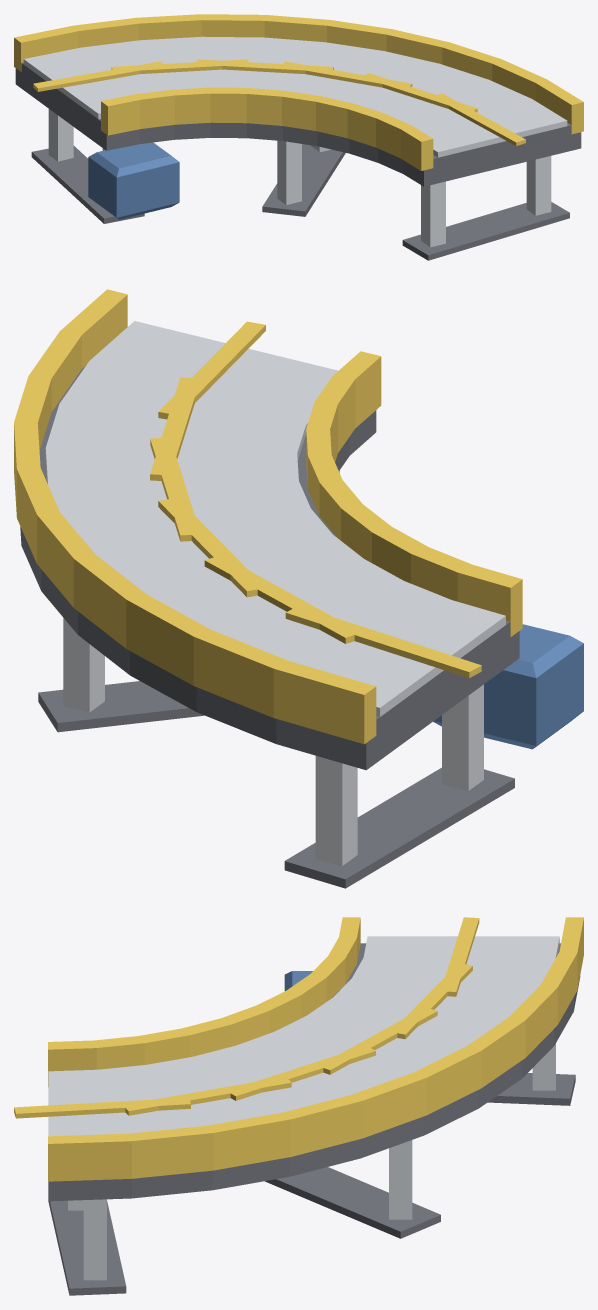
File: airport-terminal-and-ground-operations-baggage-belt-cu-9e6f9b2c__26054.glb
3 renders of one model, top to bottom at view 1: azimuth 30°, elevation 25°; view 2: azimuth 150°, elevation 25°; view 3: azimuth 270°, elevation 25°, orthographic. The views are drawn at different scales.
Parts seen in each view (by area): view 1: baggage-belt-curve; view 2: baggage-belt-curve; view 3: baggage-belt-curve.
Part boxes in pixels (bbox=[...]): baggage-belt-curve: bbox=[14, 14, 583, 260]; baggage-belt-curve: bbox=[14, 289, 583, 888]; baggage-belt-curve: bbox=[14, 917, 583, 1295].
Size of the model in its own units: 2.2 by 0.6601 by 2.2.
